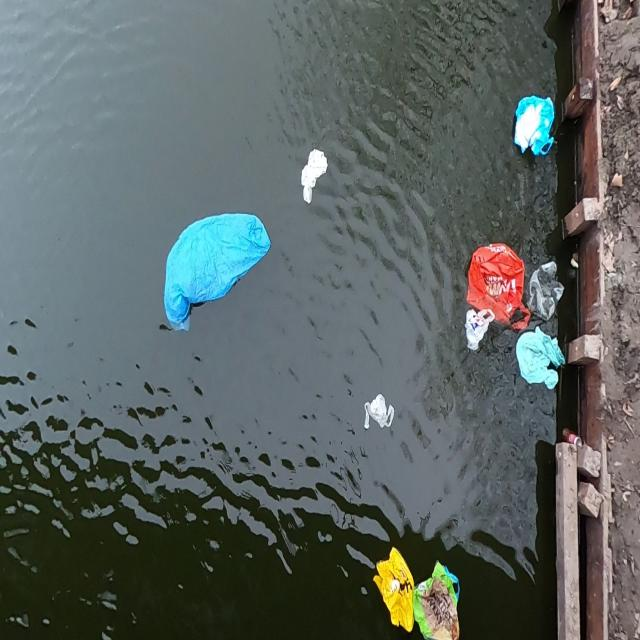Sac plastique: (152, 204, 277, 334), (458, 239, 533, 326), (514, 320, 572, 400), (507, 82, 559, 169), (414, 549, 462, 640), (376, 544, 416, 632), (527, 251, 568, 335), (297, 138, 334, 206), (355, 385, 397, 444), (462, 298, 500, 363)
